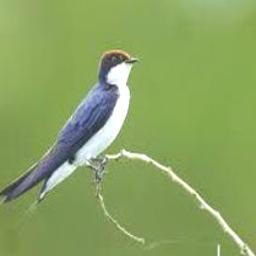Swallow: (0, 50, 141, 207)
